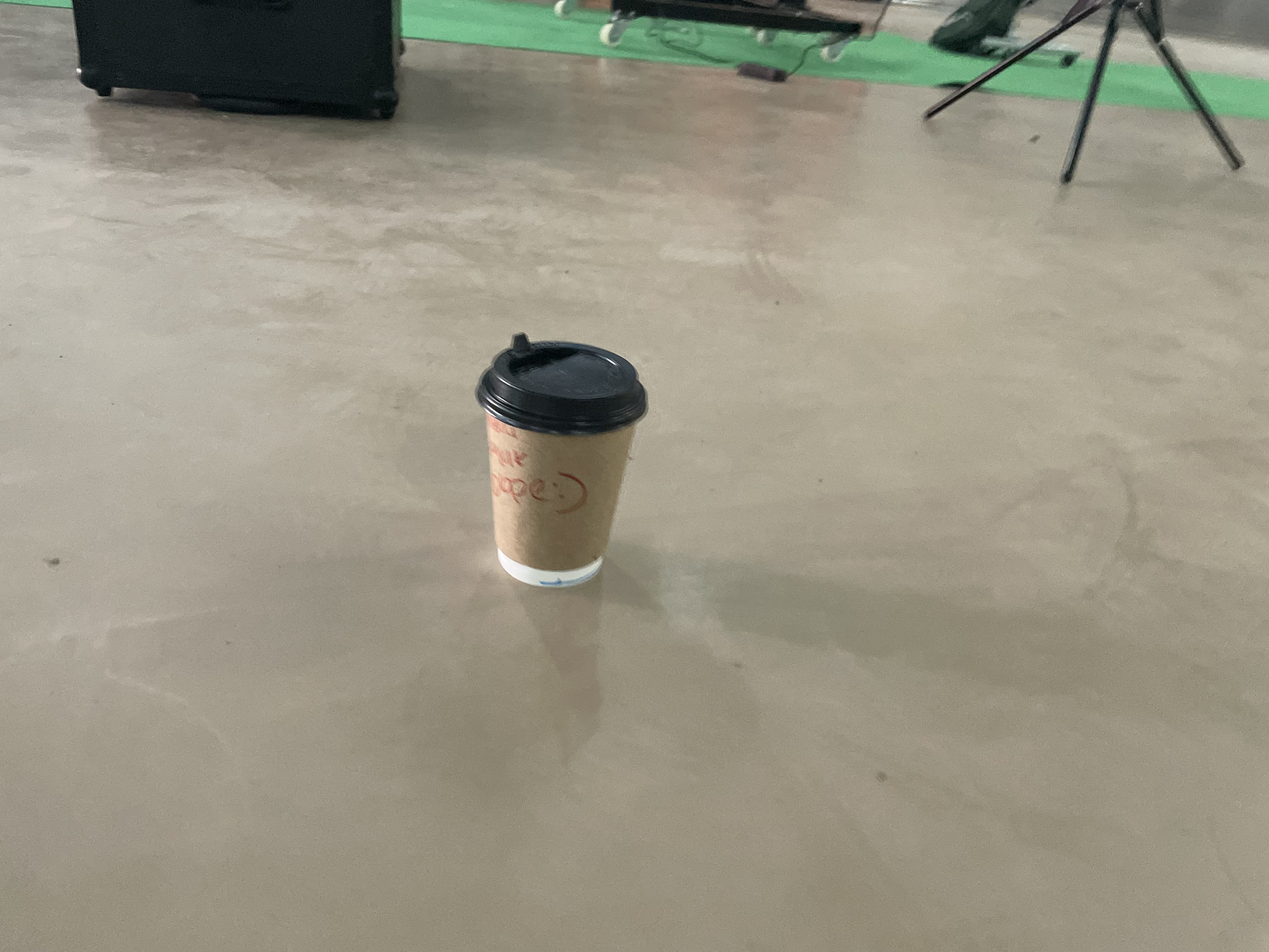cup: (474, 333, 648, 587)
